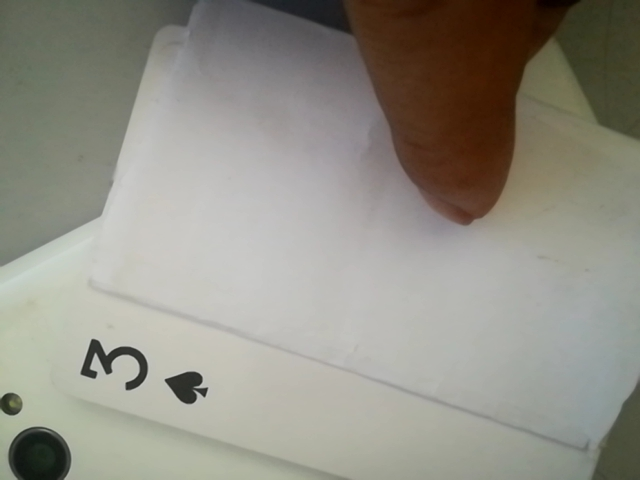ht 3: (66, 323, 220, 420)
